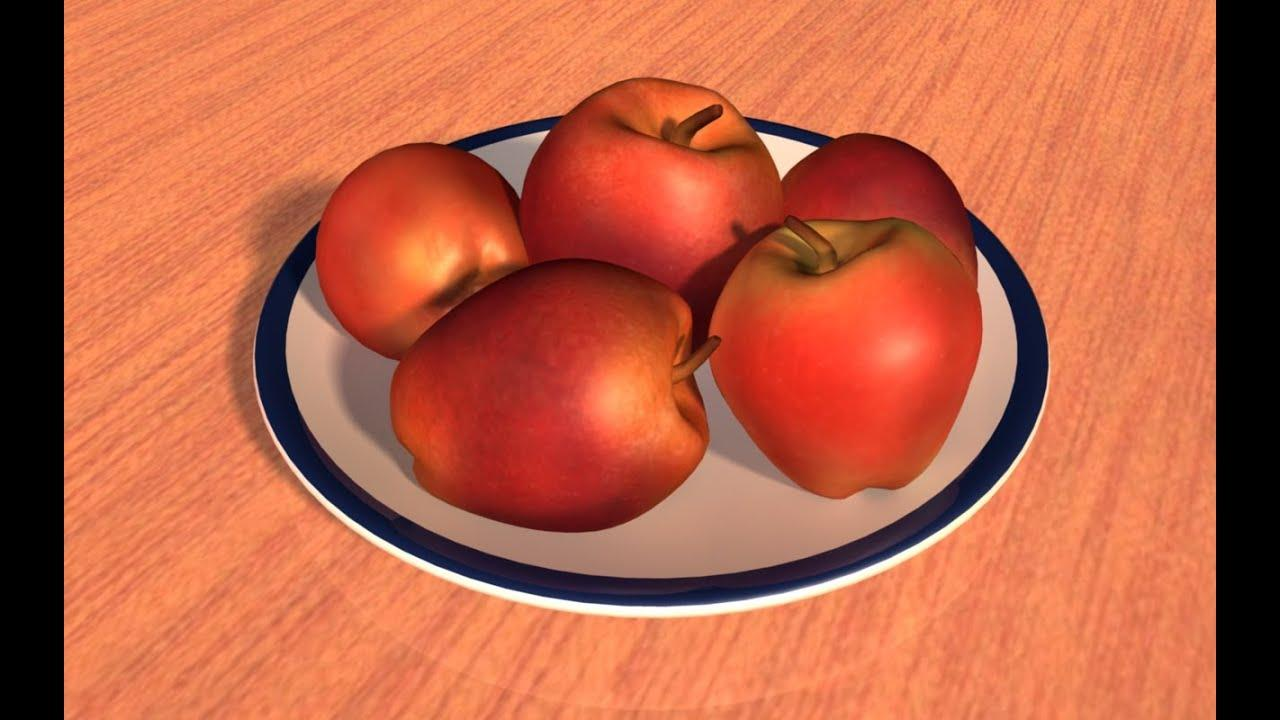Apple Fresh: (704, 178, 984, 492)
